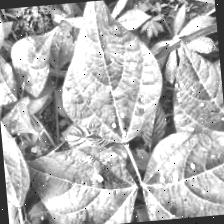Bean Rust: (51, 0, 170, 148), (21, 143, 139, 224), (141, 125, 224, 221), (167, 41, 224, 134)
